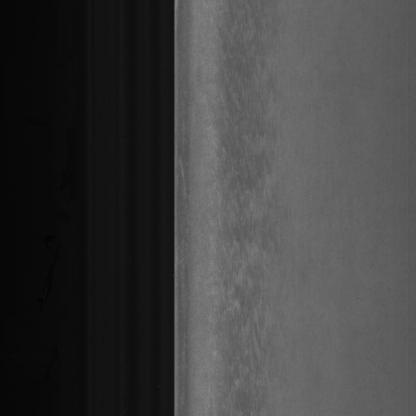silk_spot: (218, 48, 282, 378)
